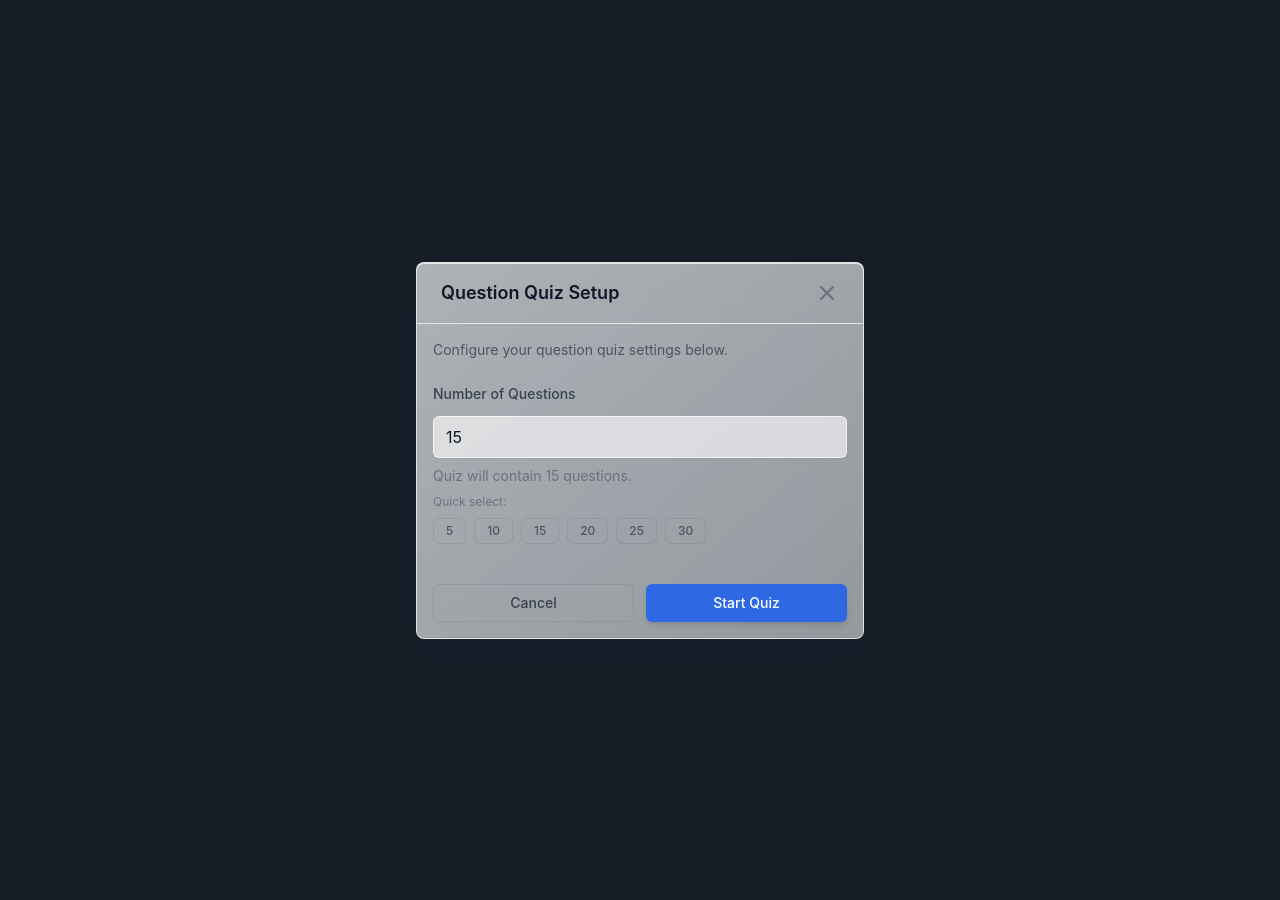
QuizSetupModal › without familiarity selection › sets the question count when a quick select button is clicked
Click the button "5": (450, 530) [433,518,466,544]
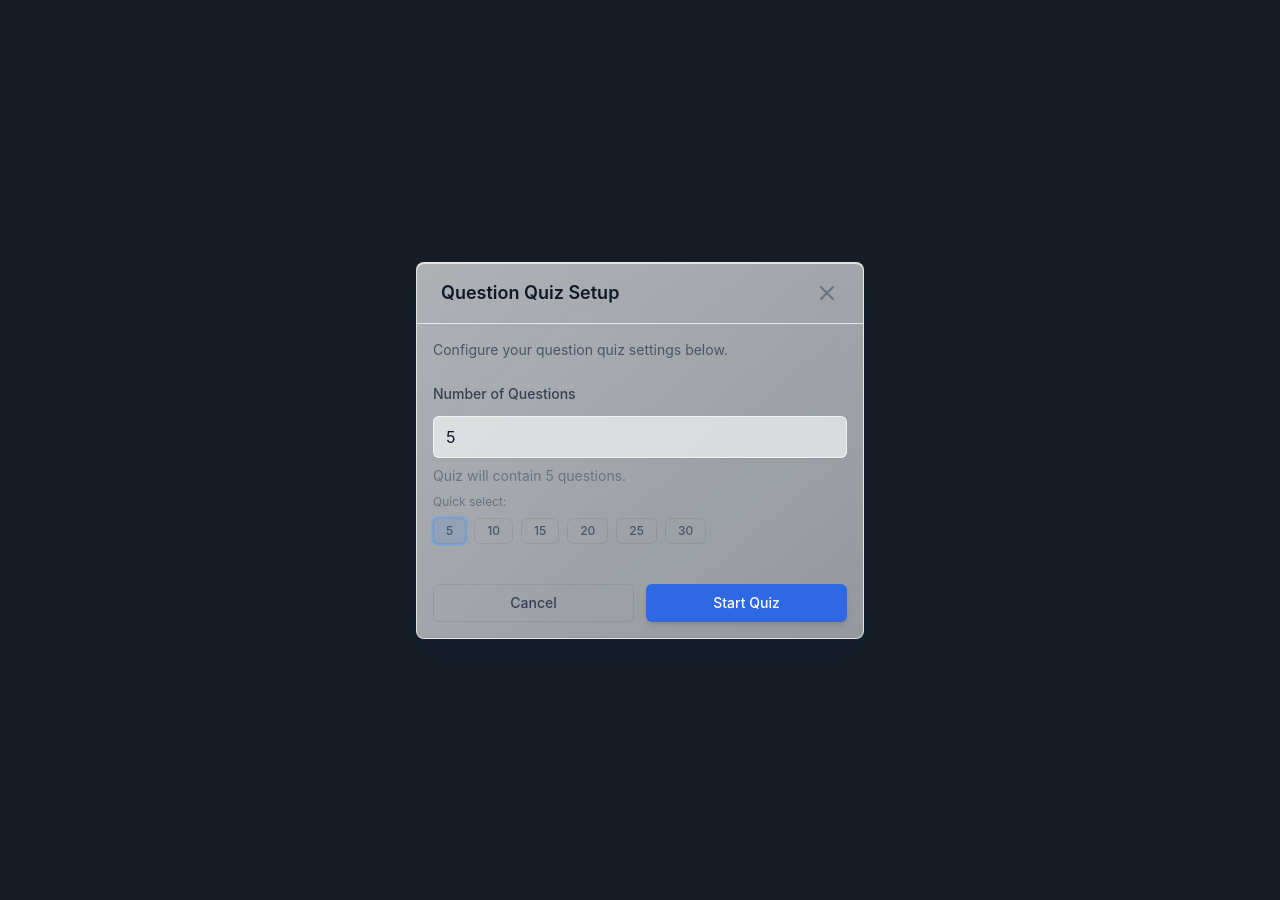
Now the number field holds "5", box [433,416,847,458]
